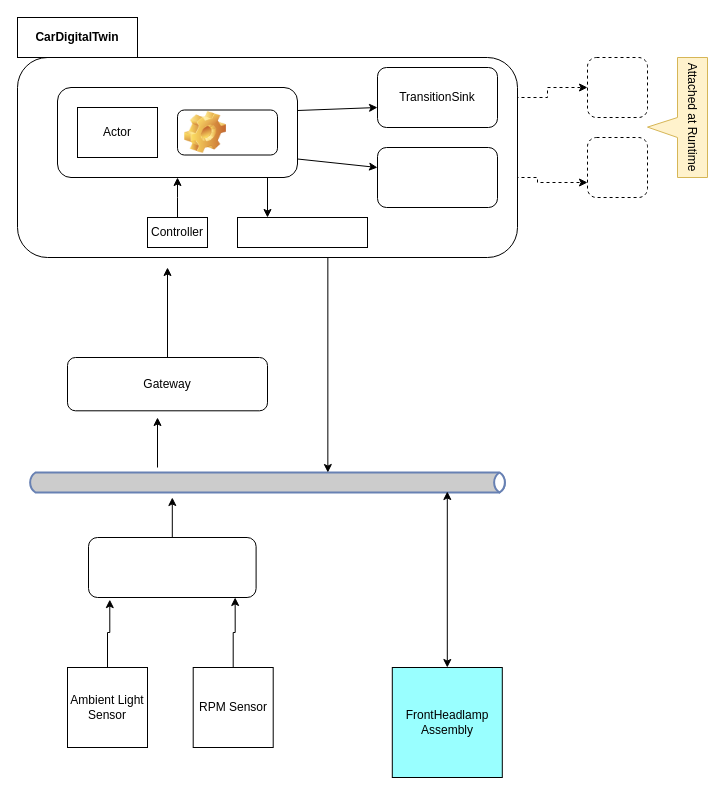
Some shapes in this 725 by 795 pixel diagram are drawn without their labels. Each missing label, with the centre of its shape:
"ActuationManager" belongs at pixel 302 232.
"CAN Bus" belongs at pixel 267 482.
"DiagnosticSink" belongs at pixel 437 177.
"Emulator" belongs at pixel 172 567.
"FSM" belongs at pixel 227 132.
